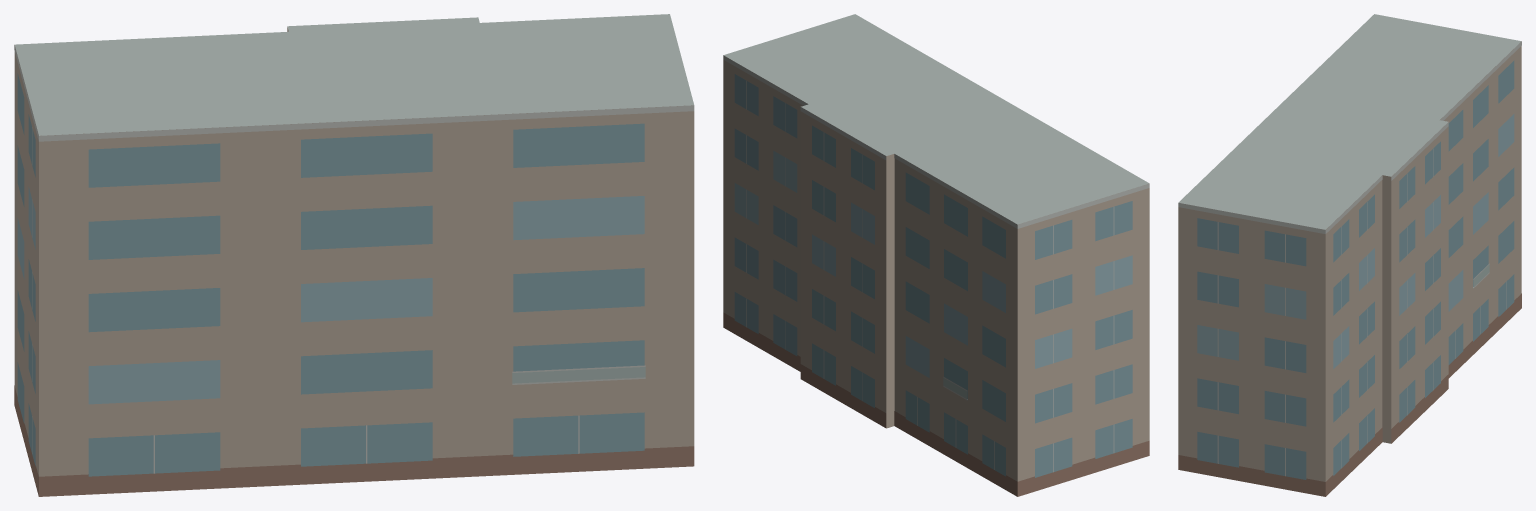
Rendered from survey-upis-32531934.glb.
3 views of the same model, side by side, from view 1: azimuth 30°, elevation 25°; view 2: azimuth 150°, elevation 25°; view 3: azimuth 270°, elevation 25° (orthographic). The views are drawn at different scales.
Parts seen in each view (by area): view 1: survey-upis-32531934.tmp; view 2: survey-upis-32531934.tmp; view 3: survey-upis-32531934.tmp.
Boxes of the visible parts, x1,y1,x2,y2 form: survey-upis-32531934.tmp: (14, 14, 694, 496); survey-upis-32531934.tmp: (723, 14, 1149, 496); survey-upis-32531934.tmp: (1178, 14, 1521, 496).
Bounding box in the file's own units: 26.01 × 15 × 17.5.
